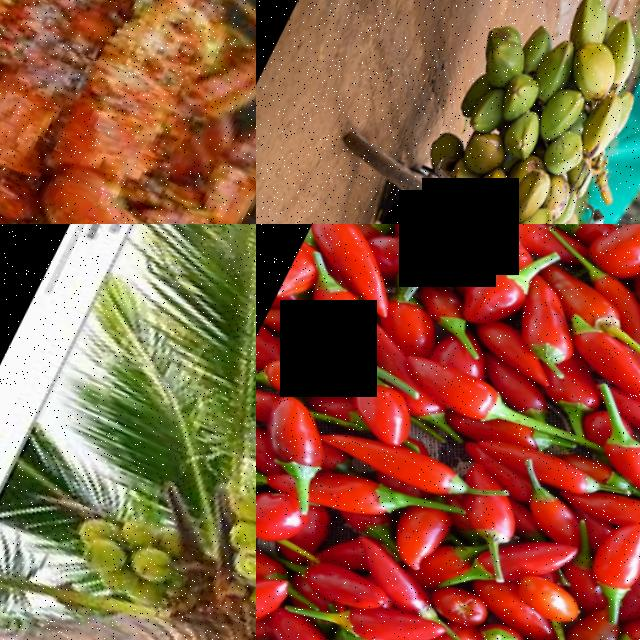chilli: (321, 415, 483, 506), (399, 346, 525, 428), (476, 422, 610, 499), (507, 283, 600, 369), (458, 251, 540, 334), (582, 507, 640, 606), (396, 224, 490, 283)
coconuts: (440, 6, 589, 167), (520, 0, 640, 157), (63, 489, 209, 612), (209, 476, 256, 590)
crab: (0, 0, 256, 224)
